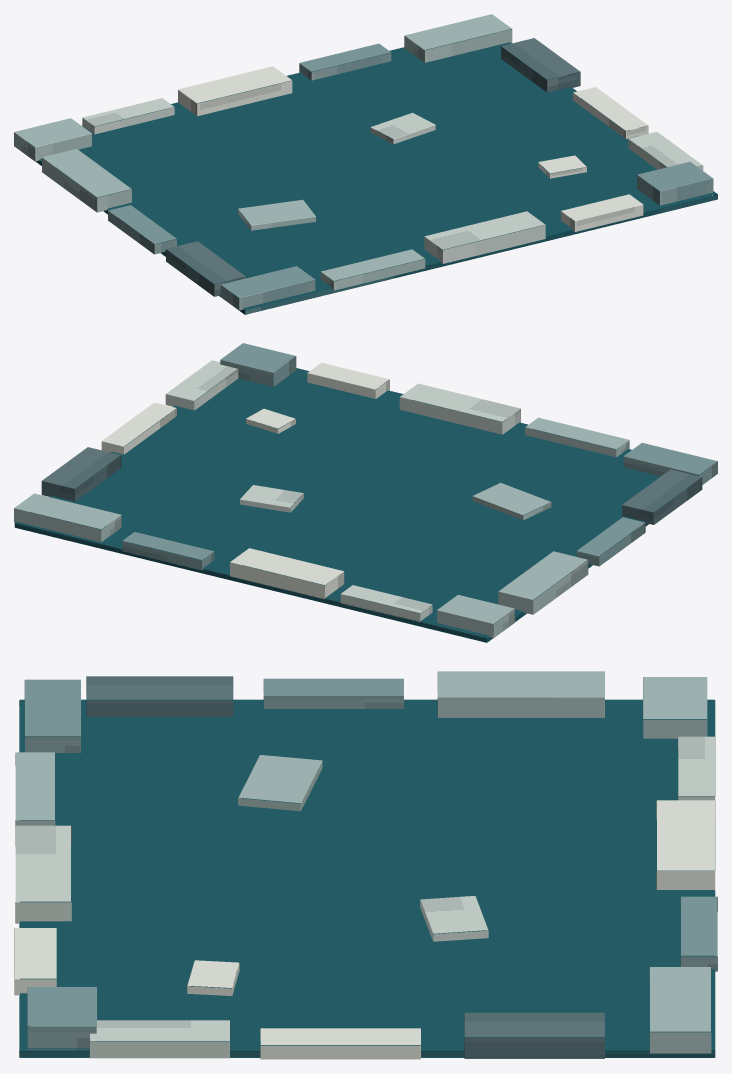
Rendered from frozen_tideline_pool.glb.
The picture shows the model from 3 angles, top to bottom: view 1: azimuth 30°, elevation 25°; view 2: azimuth 150°, elevation 25°; view 3: azimuth 270°, elevation 25°; orthographic projection. The views are drawn at different scales.
Parts seen in each view (by area): view 1: ContainedOceanSurface, IceBankLong_02, IceBankLong_07, IceBankSide_02, IceBankLong_09, IceBankSide_05, IceBankLong_00, IceBankLong_04, IceBankSide_00, IceBankLong_05, IceBankLong_01, IceBankLong_03 (+8 smaller); view 2: ContainedOceanSurface, IceBankLong_02, IceBankLong_07, IceBankSide_02, IceBankLong_09, IceBankSide_05, IceBankSide_00, IceBankLong_05, IceBankLong_04, IceBankLong_00, IceBankLong_01, IceBankSide_03 (+8 smaller); view 3: ContainedOceanSurface, IceBankSide_02, IceBankSide_05, IceBankSide_00, IceBankLong_02, IceBankSide_03, IceBankLong_09, IceBankLong_07, IceBankSide_04, IceBankSide_01, IceBankLong_04, IceBankLong_00 (+8 smaller).
Part boxes in pixels (box(x1,y1,x2,y2)): ContainedOceanSurface: box(27, 32, 717, 314); IceBankLong_02: box(424, 211, 545, 263); IceBankLong_07: box(178, 66, 292, 116); IceBankSide_02: box(42, 149, 131, 212); IceBankLong_09: box(404, 14, 512, 62); IceBankSide_05: box(501, 38, 580, 92); IceBankLong_00: box(220, 266, 315, 310); IceBankLong_04: box(637, 161, 713, 205); IceBankSide_00: box(166, 241, 246, 296); IceBankLong_05: box(14, 118, 92, 161); IceBankLong_01: box(320, 249, 425, 290); IceBankLong_03: box(561, 194, 643, 231); ContainedOceanSurface: box(14, 368, 706, 642); IceBankLong_02: box(399, 383, 520, 434); IceBankLong_07: box(230, 548, 344, 599); IceBankSide_02: box(498, 551, 588, 614); IceBankLong_09: box(14, 493, 121, 542); IceBankSide_05: box(41, 447, 121, 501); IceBankSide_00: box(622, 469, 702, 524); IceBankLong_05: box(437, 595, 514, 637); IceBankLong_04: box(220, 343, 296, 386); IceBankLong_00: box(623, 443, 717, 484); IceBankLong_01: box(525, 417, 629, 457); IceBankSide_03: box(165, 360, 238, 410); ContainedOceanSurface: box(19, 699, 715, 1057); IceBankSide_02: box(437, 671, 604, 717); IceBankSide_05: box(464, 1012, 604, 1058); IceBankSide_00: box(86, 676, 233, 716); IceBankLong_02: box(15, 825, 71, 923); IceBankSide_03: box(89, 1020, 229, 1058); IceBankLong_09: box(649, 967, 711, 1053); IceBankLong_07: box(656, 800, 715, 890); IceBankSide_04: box(260, 1028, 420, 1059); IceBankSide_01: box(263, 678, 403, 708); IceBankLong_04: box(27, 987, 96, 1050); IceBankLong_00: box(24, 679, 80, 752).
Bounding box in the file's own units: 6.46 × 0.25 × 5.26.
2 materials, 2 textured.
